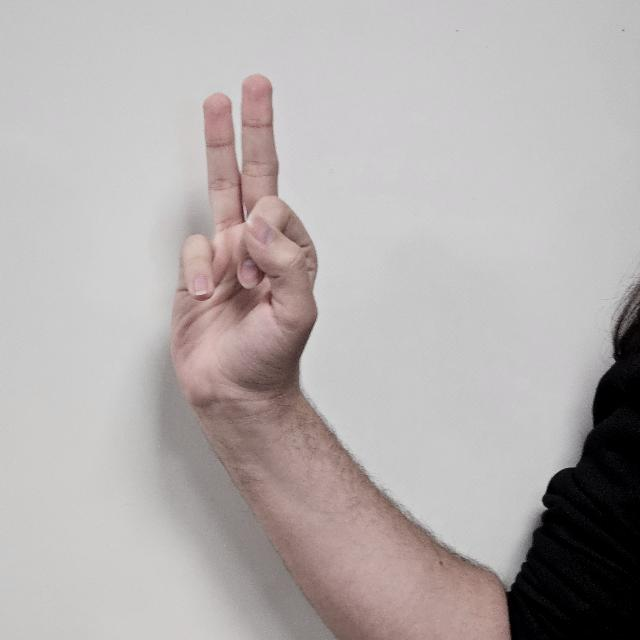R: (158, 72, 338, 446)
